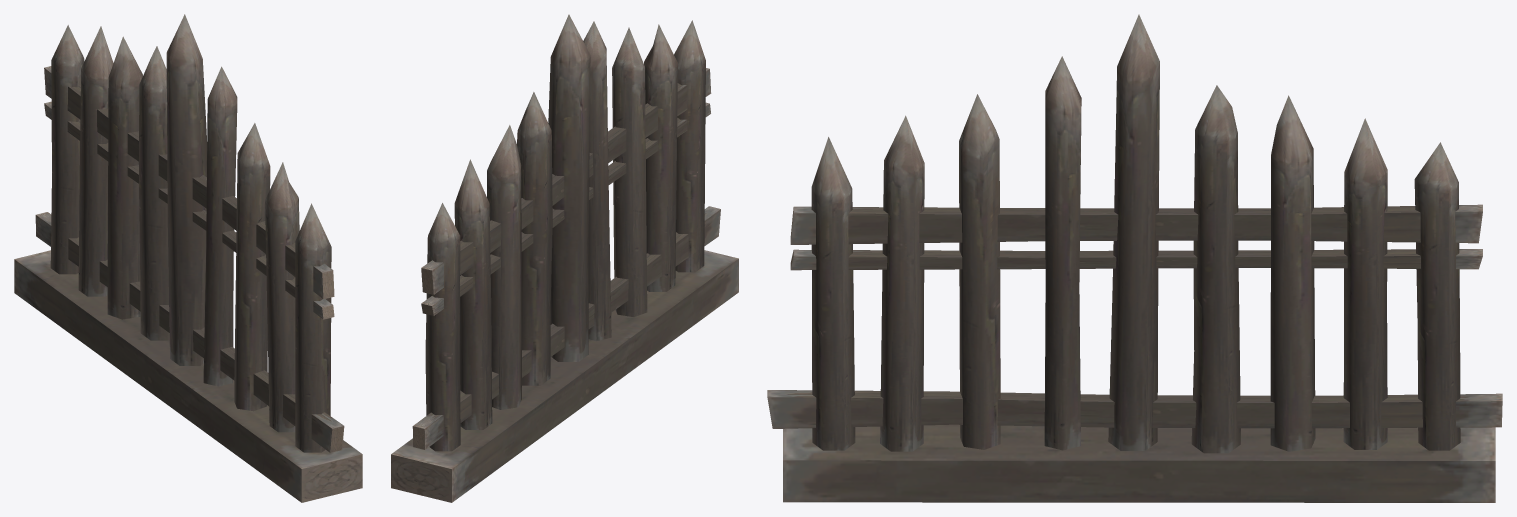
File: Homeworld_Exterior_Dq_Build_House_30_Lod0.fbx
The picture shows the model from 3 angles, left to right: view 1: azimuth 30°, elevation 25°; view 2: azimuth 150°, elevation 25°; view 3: azimuth 270°, elevation 25°; orthographic projection. The views are drawn at different scales.
Parts seen in each view (by area): view 1: Area_Common_Build_Railing_02_Lod0; view 2: Area_Common_Build_Railing_02_Lod0; view 3: Area_Common_Build_Railing_02_Lod0.
Boxes of the visible parts, x1,y1,x2,y2 form: Area_Common_Build_Railing_02_Lod0: [14, 14, 362, 502]; Area_Common_Build_Railing_02_Lod0: [391, 14, 738, 502]; Area_Common_Build_Railing_02_Lod0: [767, 14, 1502, 502].
Bounding box in the file's own units: 0.6048 × 3.58 × 5.1.
